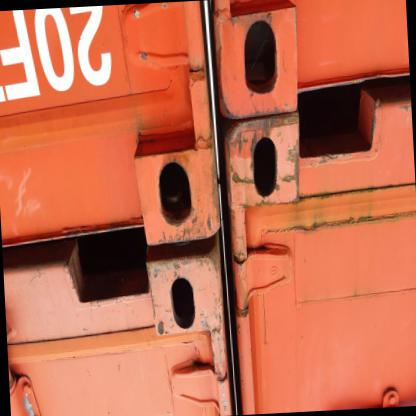CornerCasting: (128, 127, 224, 250), (207, 6, 303, 126), (220, 106, 306, 222), (142, 243, 228, 346)
